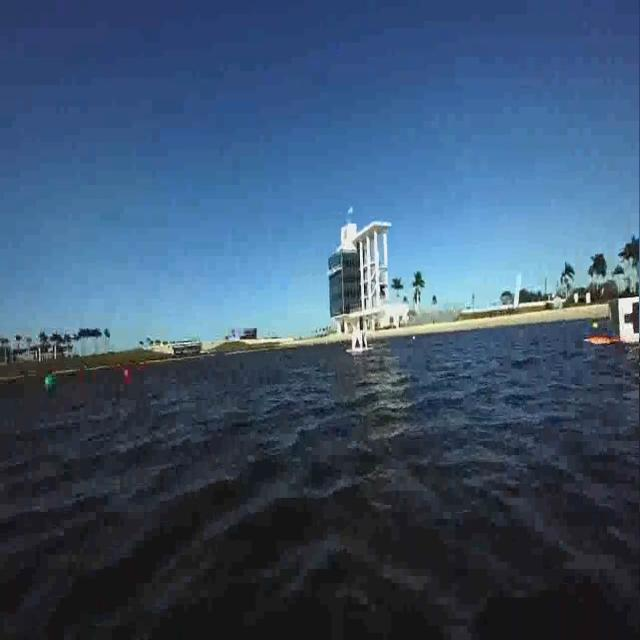green-buoy: (41, 374, 54, 395)
